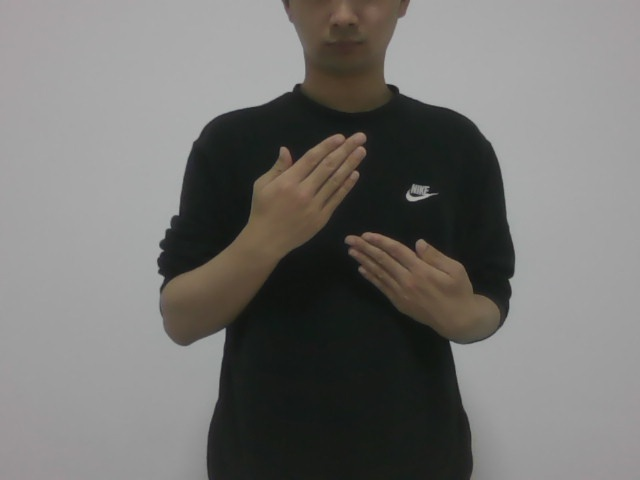tea: (244, 124, 471, 340)
